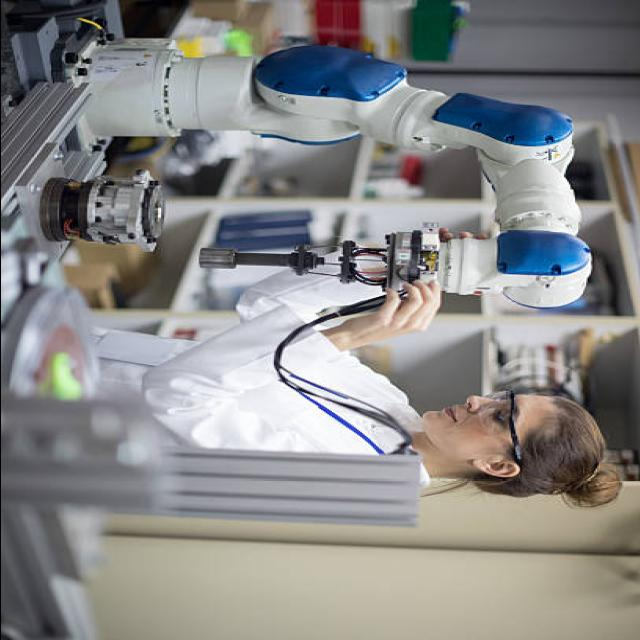Robotic-arm: (84, 38, 606, 316)
